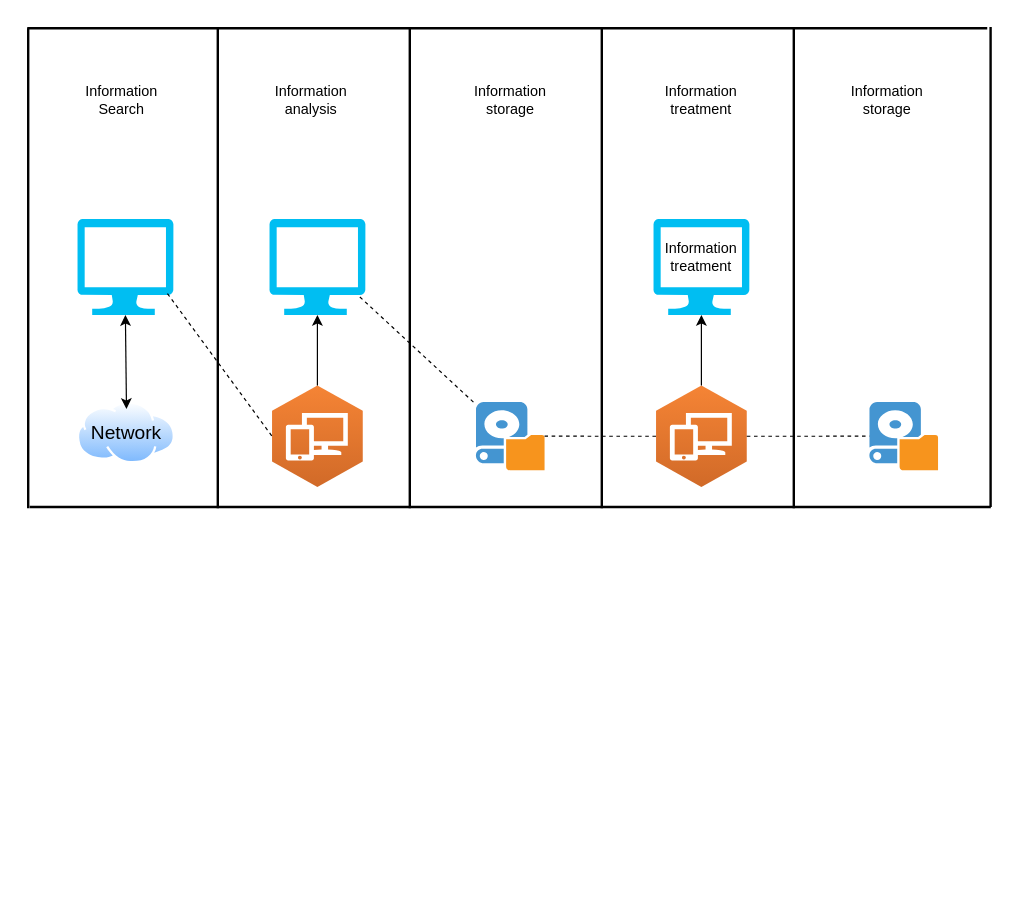
Image size: 1018x923. Some labels were removed from this diagram. The shapes that lost their labels are listed below. From the top down, each one's centre as x and y in pixels, then its label:
At point 125,266: "Autosearch keywords".
At point 317,266: "Text Analysis".
